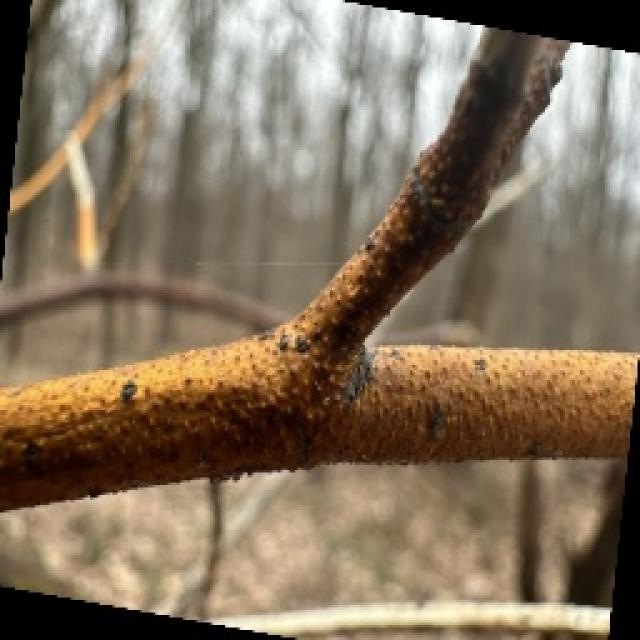Golden_canker: (2, 113, 640, 585)
